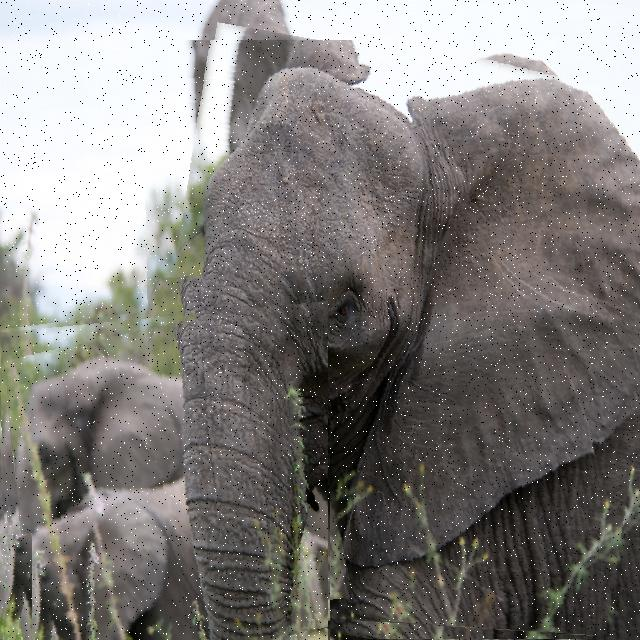elephant: (141, 40, 640, 640), (0, 301, 328, 640), (0, 417, 330, 640), (0, 533, 32, 640)
